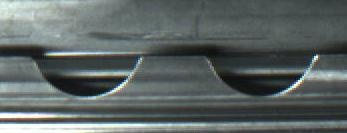twou: (39, 44, 299, 108)
